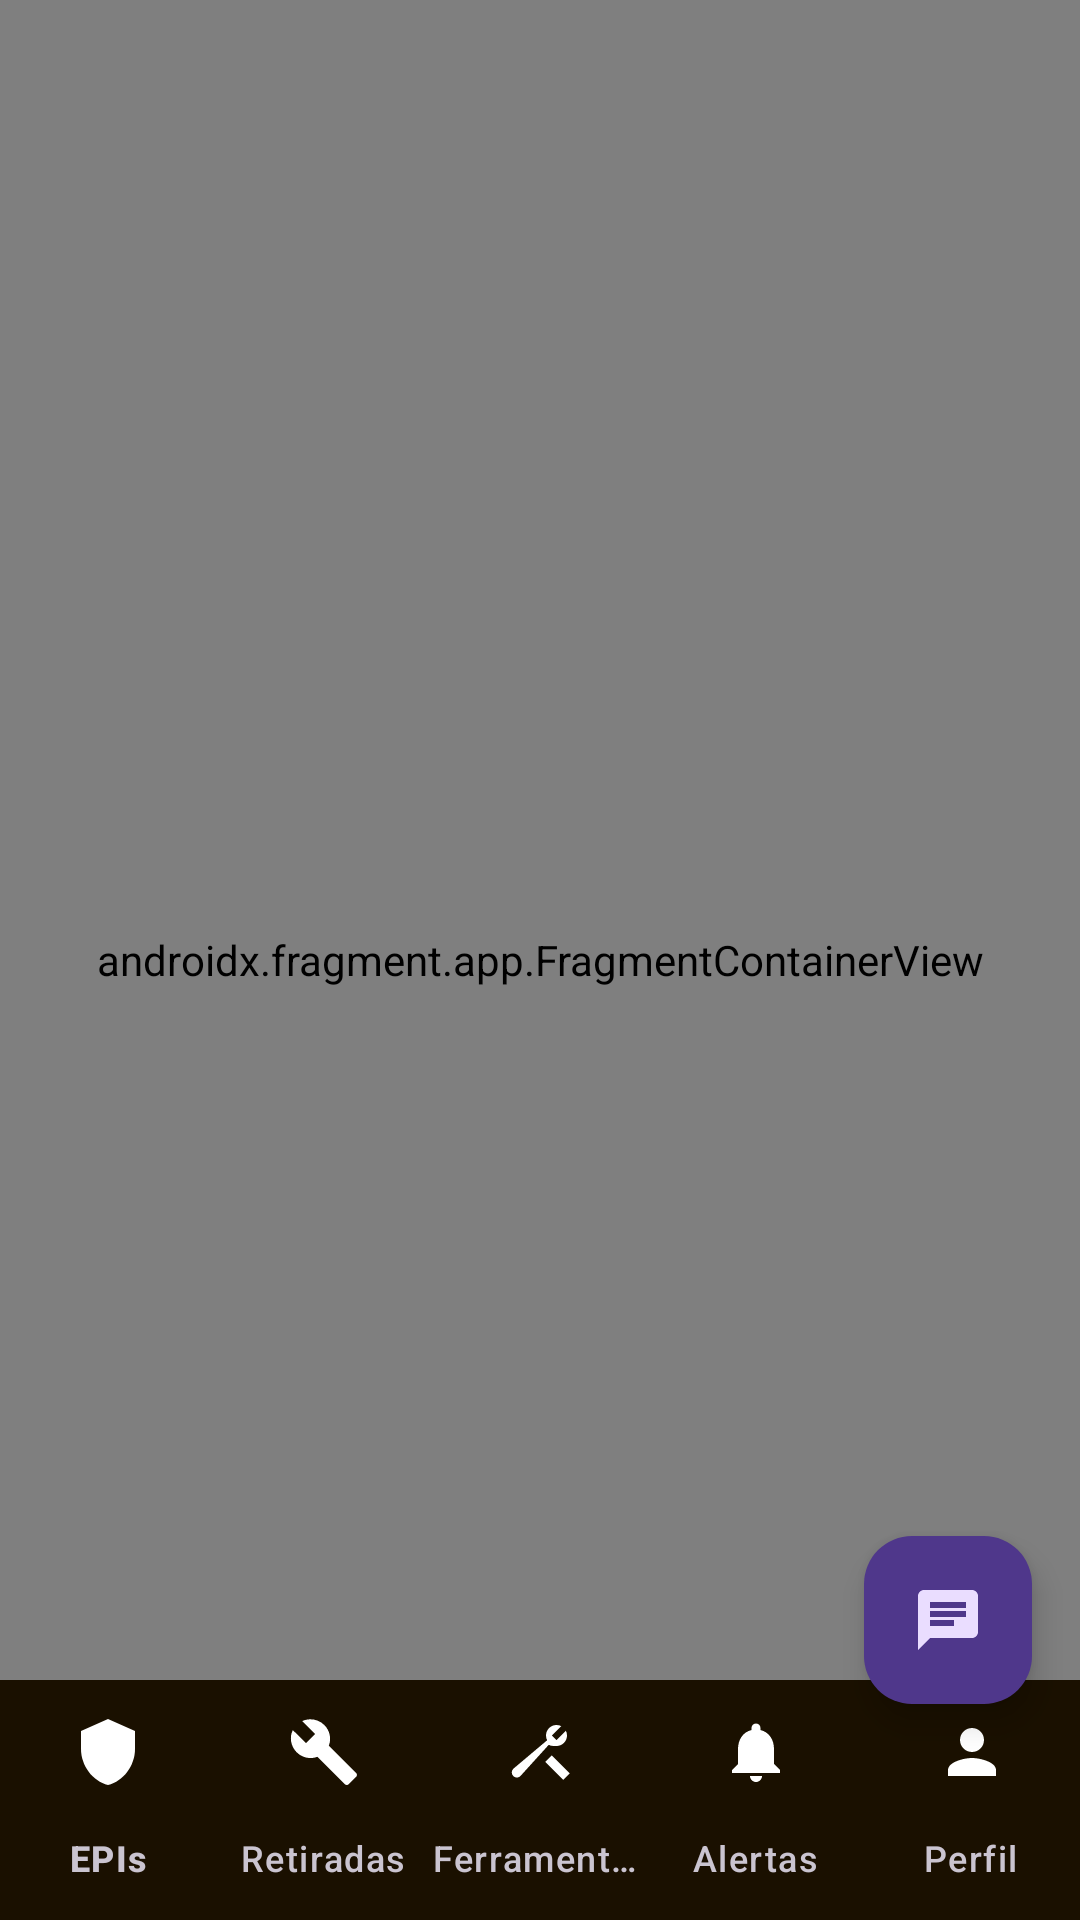

Icon click points for this 1080w x 1920h phone screenshot, format [x,y]:
Chat: [948,1620]
